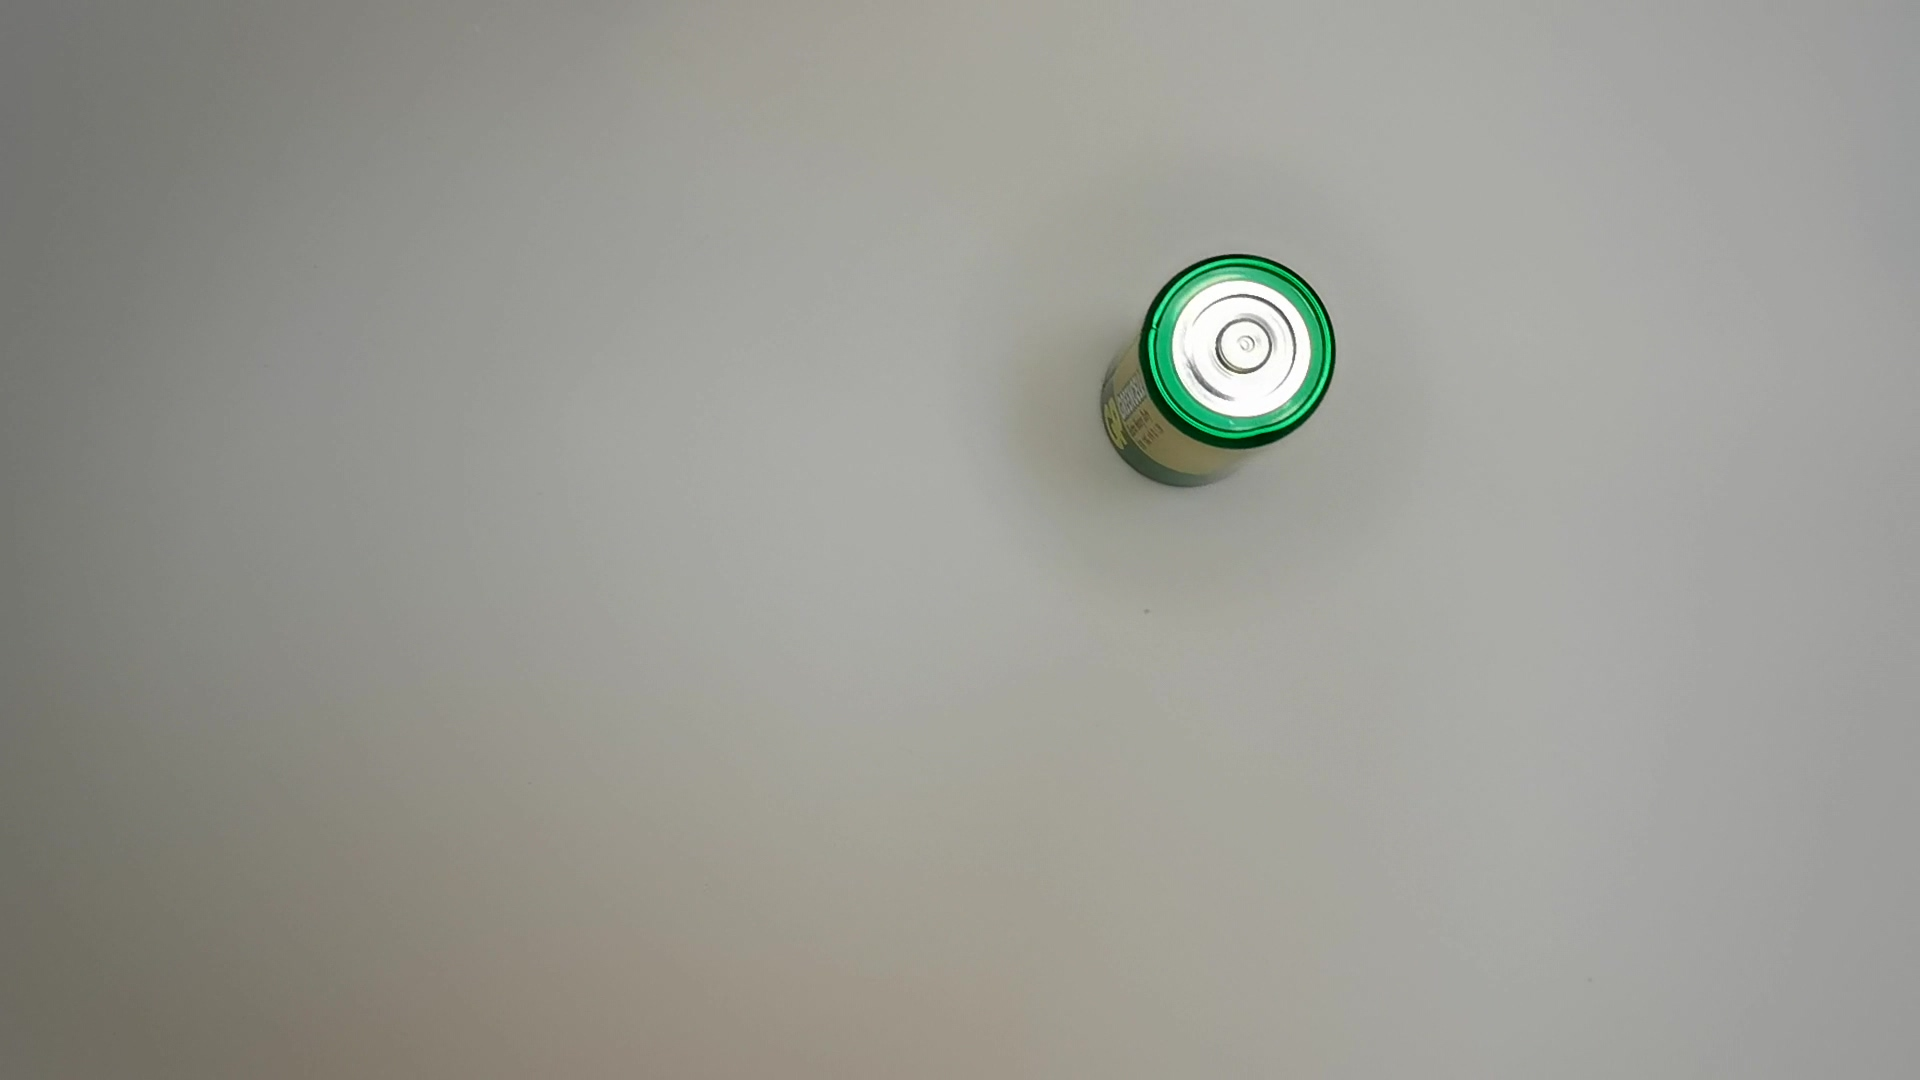battery: (1077, 252, 1348, 495)
